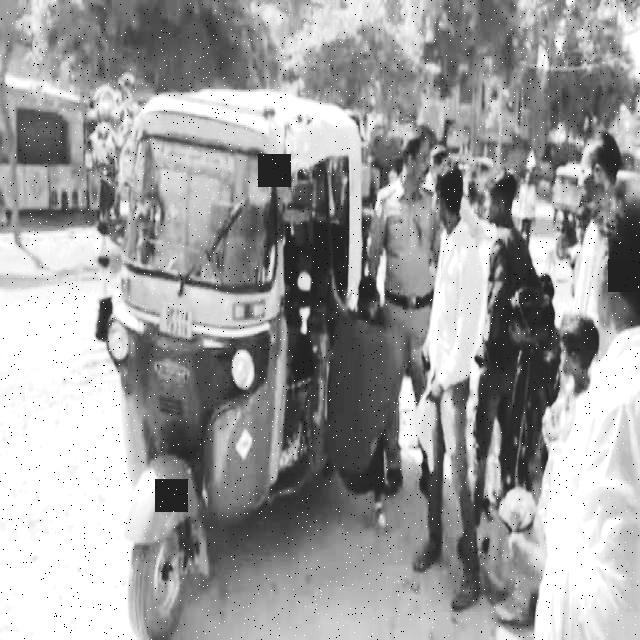Auto-Rickshaw: (71, 42, 381, 628)
